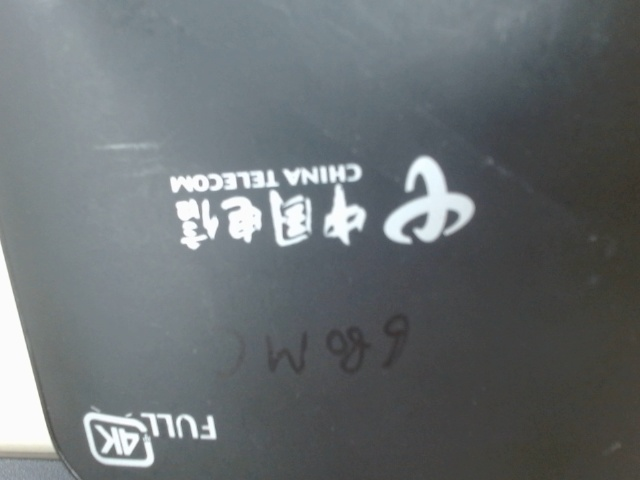AB_ChinaTelecom: (160, 142, 497, 265)
